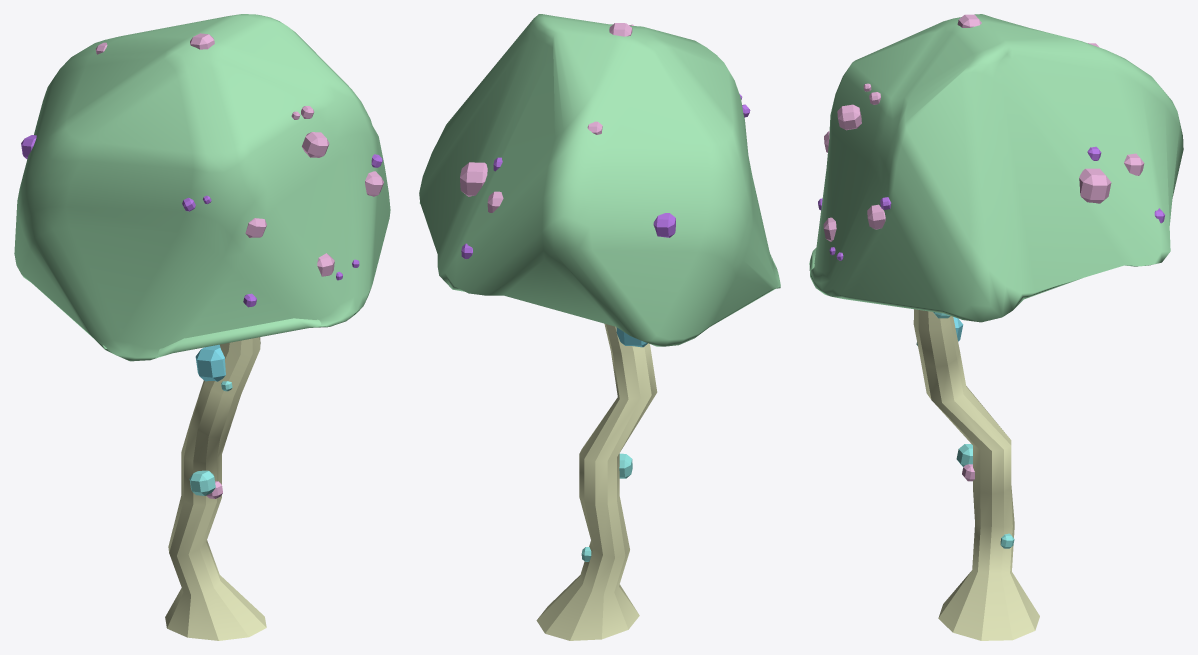
File: Mush11.fbx
The picture shows the model from 3 angles, left to right: view 1: azimuth 30°, elevation 25°; view 2: azimuth 150°, elevation 25°; view 3: azimuth 270°, elevation 25°; orthographic projection.
Parts seen in each view (by area): view 1: pasted__pasted__pasted__pasted__group14_pasted__pasted__past; view 2: pasted__pasted__pasted__pasted__group14_pasted__pasted__past; view 3: pasted__pasted__pasted__pasted__group14_pasted__pasted__past.
Boxes of the visible parts, x1,y1,x2,y2 form: pasted__pasted__pasted__pasted__group14_pasted__pasted__past: [14, 14, 390, 640]; pasted__pasted__pasted__pasted__group14_pasted__pasted__past: [419, 14, 780, 640]; pasted__pasted__pasted__pasted__group14_pasted__pasted__past: [809, 14, 1183, 640].
Bounding box in the file's own units: 3.97 × 6.77 × 3.87.
